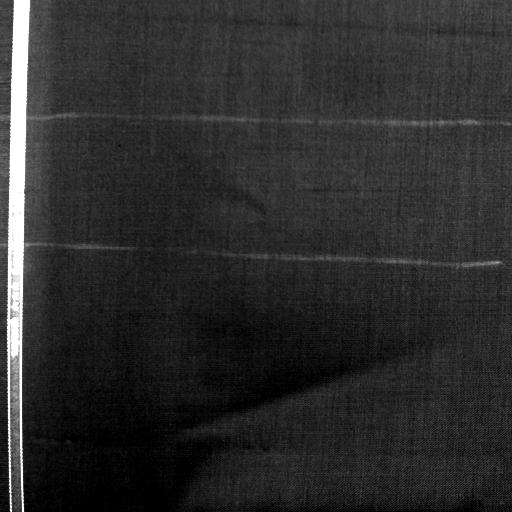fabric_broken_pick: (302, 178, 428, 208)
